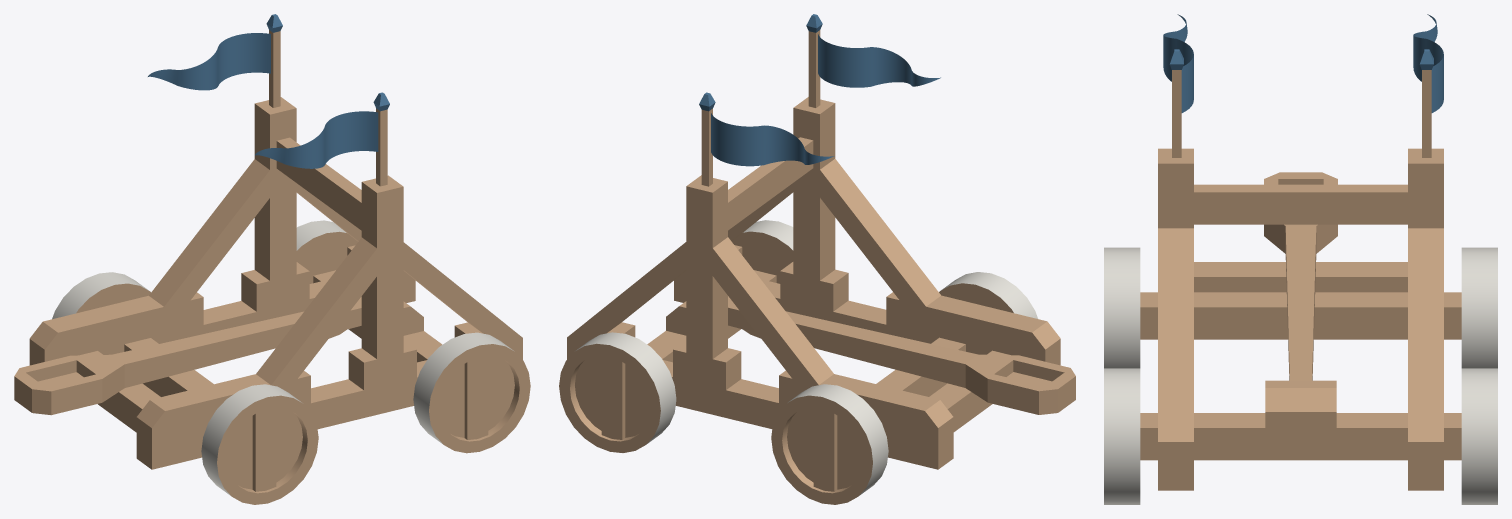
The model's file is siegeCatapult.fbx.
The picture shows the model from 3 angles, left to right: view 1: azimuth 30°, elevation 25°; view 2: azimuth 150°, elevation 25°; view 3: azimuth 270°, elevation 25°; orthographic projection. The views are drawn at different scales.
Visible parts, largest first — view 1: body 1, catapult 2, wheelBackRight 4, wheelFrontRight 6, flag 12, flag 13, wheelFrontLeft 6, wheelBackLeft 4; view 2: body 1, catapult 2, wheelFrontLeft 6, wheelBackLeft 4, flag 12, flag 13, wheelFrontRight 6, wheelBackRight 4; view 3: body 1, catapult 2, wheelFrontLeft 6, wheelFrontRight 6, wheelBackLeft 4, wheelBackRight 4, flag 12, flag 13.
Part boxes in pixels (bbox=[...]): body 1: bbox=[29, 97, 522, 469]; catapult 2: bbox=[14, 298, 361, 415]; wheelBackRight 4: bbox=[201, 384, 318, 504]; wheelFrontRight 6: bbox=[413, 332, 530, 453]; flag 12: bbox=[254, 92, 389, 186]; flag 13: bbox=[148, 14, 282, 107]; wheelFrontLeft 6: bbox=[296, 220, 357, 338]; wheelBackLeft 4: bbox=[52, 272, 150, 319]; body 1: bbox=[567, 97, 1060, 469]; catapult 2: bbox=[728, 298, 1075, 414]; wheelFrontLeft 6: bbox=[559, 332, 676, 452]; wheelBackLeft 4: bbox=[771, 384, 888, 504]; flag 12: bbox=[806, 14, 940, 107]; flag 13: bbox=[699, 92, 834, 186]; wheelFrontRight 6: bbox=[732, 220, 793, 338]; wheelBackRight 4: bbox=[939, 272, 1037, 318]; body 1: bbox=[1140, 148, 1461, 490]; catapult 2: bbox=[1264, 172, 1337, 380]; wheelFrontLeft 6: bbox=[1461, 368, 1497, 504]; wheelFrontRight 6: bbox=[1104, 368, 1140, 504]; wheelBackLeft 4: bbox=[1461, 247, 1497, 368]; wheelBackRight 4: bbox=[1104, 247, 1140, 368]; flag 12: bbox=[1163, 14, 1193, 157]; flag 13: bbox=[1413, 14, 1443, 157].
Size of the model in its own units: 17.35 by 13.3 by 11.57.
